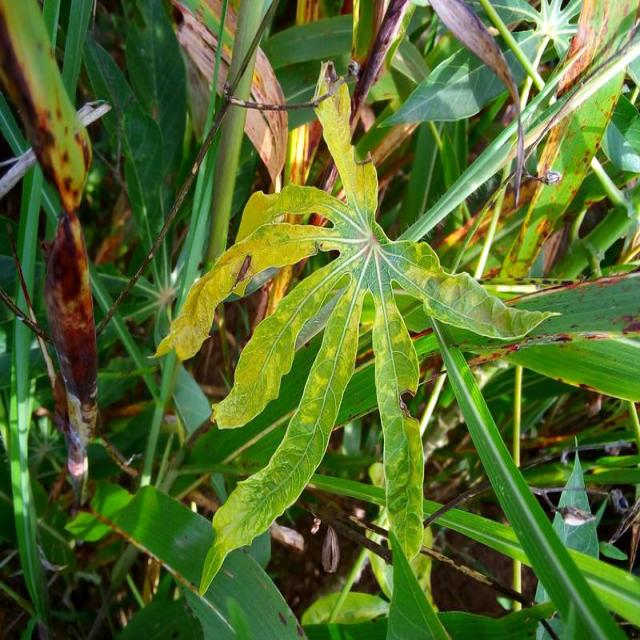cassava leaf: (158, 58, 562, 597)
